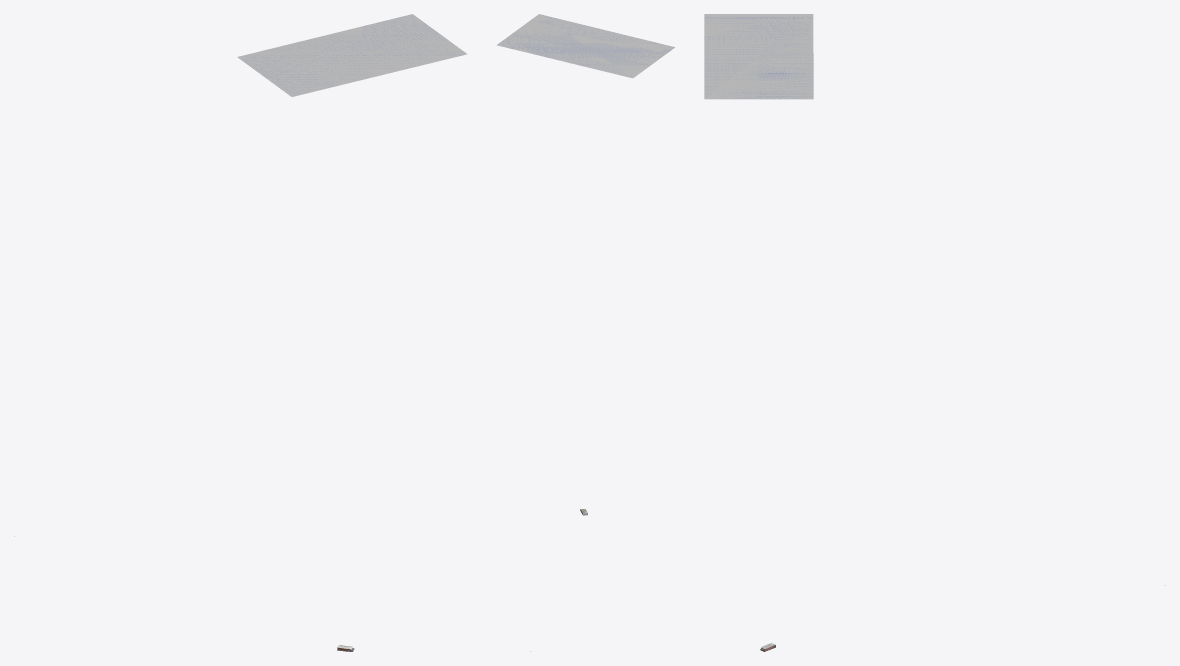
File: OSBFacility.dae
3 views of the same model, side by side, from view 1: azimuth 30°, elevation 25°; view 2: azimuth 150°, elevation 25°; view 3: azimuth 270°, elevation 25° (orthographic). The views are drawn at different scales.
Visible parts, largest first — view 1: SketchUp; view 2: SketchUp; view 3: SketchUp.
Boxes of the visible parts, <box> form: SketchUp: <box>237,14,467,96</box>; SketchUp: <box>497,14,674,78</box>; SketchUp: <box>704,14,813,99</box>.
Bounding box in the file's own units: 4200 × 7633 × 10847.
